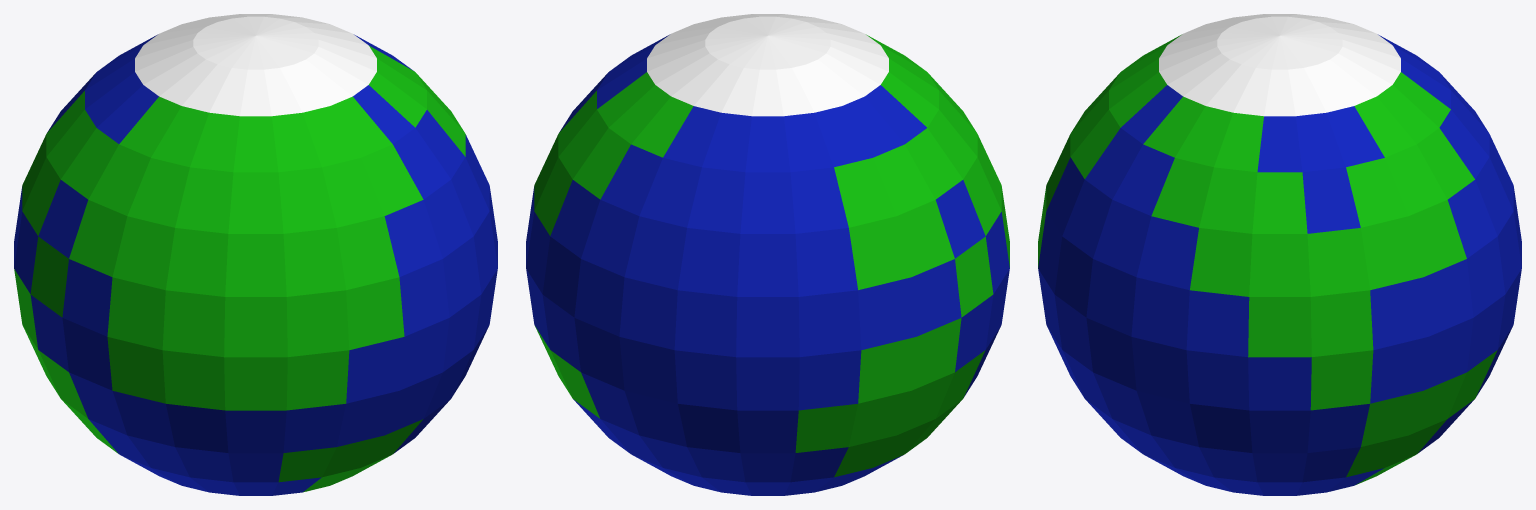
File: earth.gltf
3 renders of one model, left to right at view 1: azimuth 30°, elevation 25°; view 2: azimuth 150°, elevation 25°; view 3: azimuth 270°, elevation 25°, orthographic.
Parts seen in each view (by area): view 1: sphere; view 2: sphere; view 3: sphere.
Part boxes in pixels (x1,y1,x2,y2): sphere: (14, 14, 497, 495); sphere: (526, 14, 1009, 495); sphere: (1038, 14, 1521, 495).
Size of the model in its own units: 1 by 1 by 1.
1 material, 1 textured.
